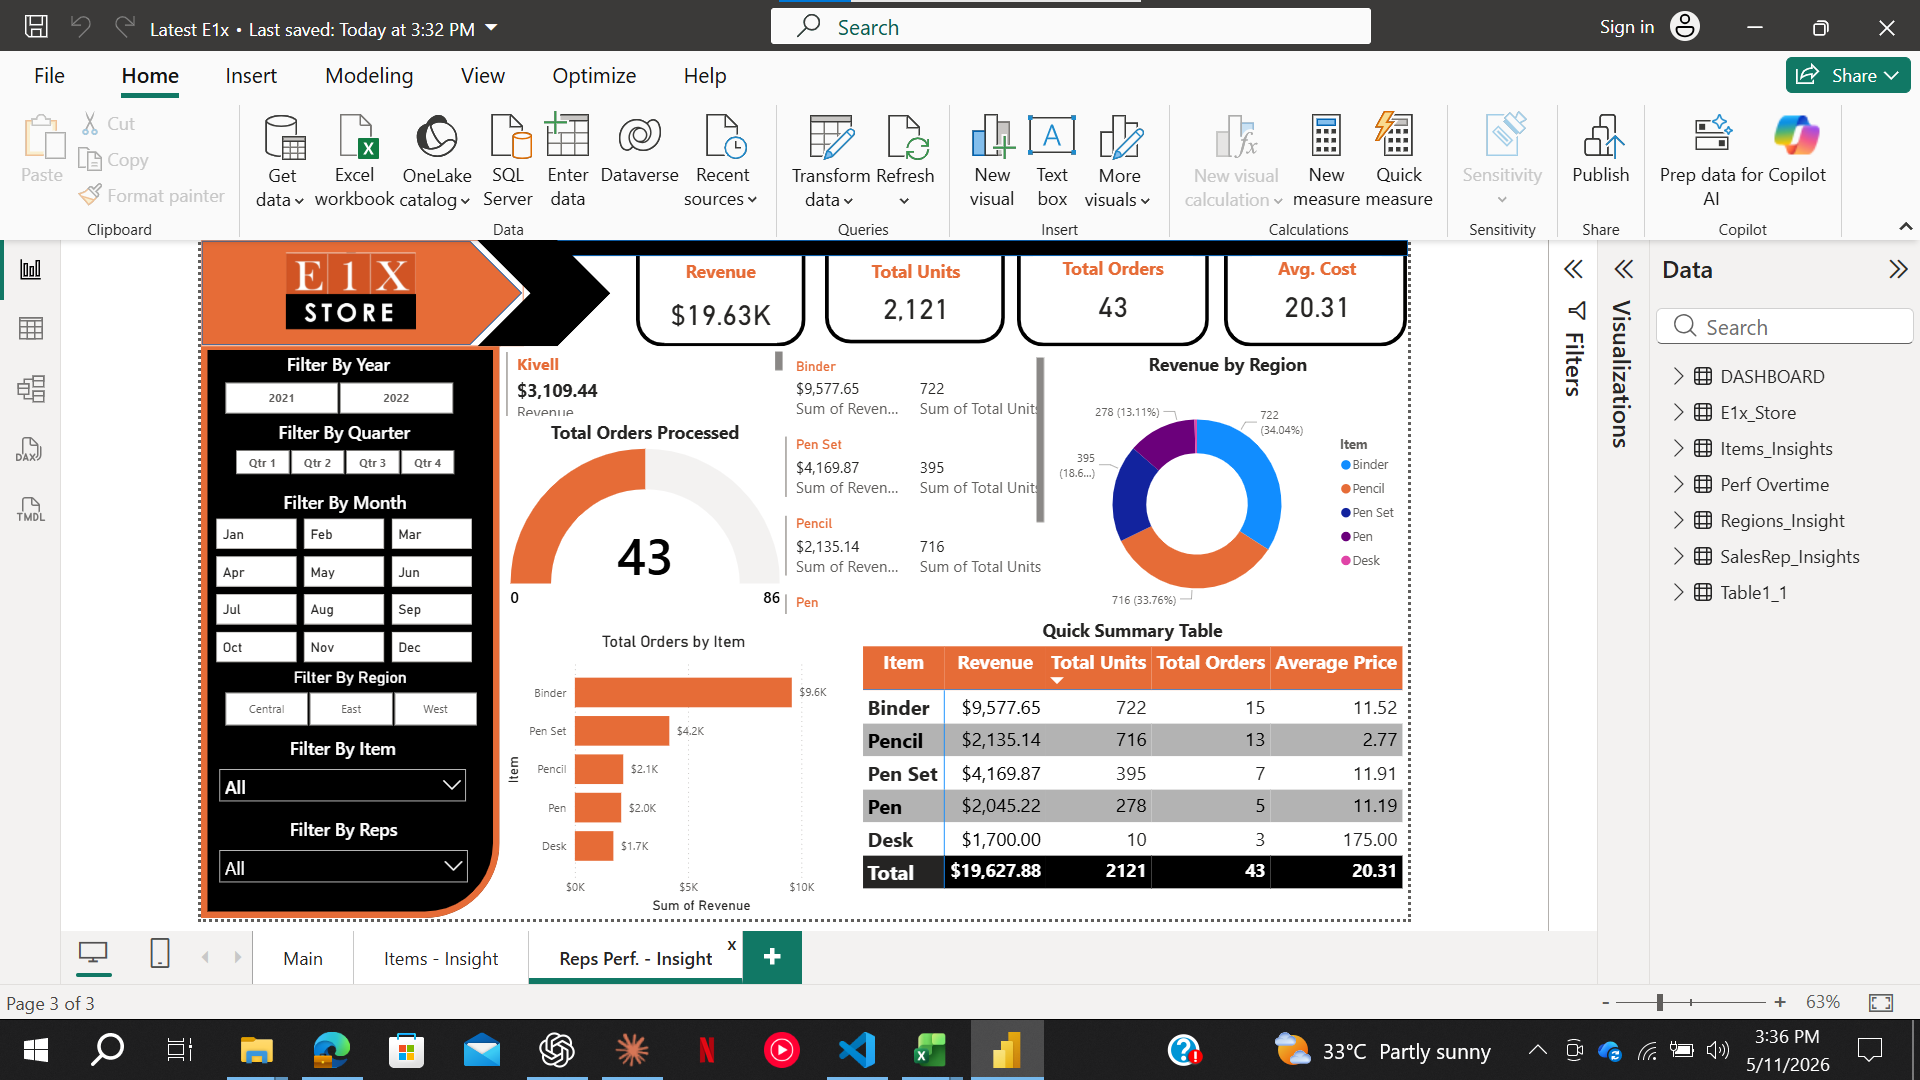

What the dashboard file says about the page in this screenshot:
{"tool":"powerbi","page":{"name":"Reps Perf. - Insight","canvas":[1280,720],"ordinal":2},"visuals":[{"type":"shape","box":[0,109.8,316.5,609.2],"z":0},{"type":"shape","box":[0,0,342,112.9],"z":1000},{"type":"image","box":[0,8,318.1,105],"z":2000},{"type":"shape","box":[461.3,0,179.7,112.9],"z":3000},{"type":"shape","box":[661.7,0,190.9,109.8],"z":4000},{"type":"shape","box":[865.3,0,203.6,112.9],"z":5000},{"type":"shape","box":[1084.8,0,194.1,112.9],"z":6000},{"type":"shape","box":[338.3,0,941.1,17],"z":7000},{"type":"shape","box":[292.7,0,141.6,112.9],"z":8000},{"type":"card","title":"Revenue","fields":{"Values":["Sum(E1x_Store.Total)"]},"box":[491.3,20.8,119.1,88.8],"z":9000},{"type":"card","title":"Total Units","fields":{"Values":["Sum(Table1_1.Units)"]},"box":[684,20.7,147.9,74.8],"z":10000},{"type":"card","title":"Total Orders","fields":{"Values":["CountNonNull(Table1_1.OrderDate)"]},"box":[882.8,17.5,168.6,77.9],"z":11000},{"type":"card","title":"Avg. Cost","fields":{"Values":["Avg(Table1_1.Unit Cost)"]},"box":[1115,17.5,136.8,77.9],"z":12000},{"type":"donutChart","title":"Revenue by Region","fields":{"Y":["Sum(Table1_1.Units)"],"Category":["Table1_1.Item"]},"box":[898.7,119.3,380.2,295.9],"z":13000},{"type":"pivotTable","title":"Quick Summary Table","fields":{"Values":["Sum(Table1_1.Revenue)","Sum(Table1_1.Units)","CountNonNull(Table1_1.OrderDate)","Avg(Table1_1.Unit Cost)"],"Rows":["Table1_1.Item"]},"box":[696.7,400.8,582.2,316.5],"z":14000},{"type":"clusteredBarChart","title":"Total Orders by Item","fields":{"Category":["Table1_1.Item"],"Y":["Sum(Table1_1.Revenue)"]},"box":[318.1,415.1,365.8,302.2],"z":15000},{"type":"multiRowCard","fields":{"Values":["Sum(Table1_1.Total)","Sum(Table1_1.Units)","Table1_1.Item"]},"box":[614,119.3,284.7,281.5],"z":16000},{"type":"multiRowCard","title":"Revenue and Total Units by Item","fields":{"Values":["Sum(Table1_1.Revenue)","Table1_1.Rep"]},"box":[318.1,112.9,303.8,77.9],"z":17000},{"type":"advancedSlicerVisual","title":"Filter By Month","fields":{"Values":["Table1_1.Month_Name"]},"box":[11.1,265.6,283.1,187.7],"z":18000},{"type":"slicer","title":"Filter By Reps","fields":{"Values":["Table1_1.Rep"]},"box":[9.5,612.4,283.1,74.8],"z":19000},{"type":"slicer","title":"Filter By Quarter","fields":{"Values":["Table1_1.OrderDate.Variation.Date Hierarchy.Quarter"]},"box":[11.1,190.9,281.5,63.6],"z":20000},{"type":"slicer","title":"Filter By Year","fields":{"Values":["Table1_1.OrderDate.Variation.Date Hierarchy.Year"]},"box":[0,119.3,291.1,71.6],"z":21000},{"type":"slicer","title":"Filter By Item","fields":{"Values":["Table1_1.Item"]},"box":[9.5,526.5,281.5,85.9],"z":22000},{"type":"slicer","title":"Filter By Region","fields":{"Values":["Table1_1.Region"]},"box":[0,453.3,316.5,68.4],"z":23000},{"type":"gauge","title":"Total Orders Processed","fields":{"Y":["CountNonNull(Table1_1.Total Units)"]},"box":[322.9,190.9,295.9,210],"z":24000}]}

Visuals, with their boxes on the page's 1280x720 design canvas (x1, y1, x2, y2). These are canvas units, not pixel positions in the 1920x1080 screenshot, which may show the page scaled, cropped or inside an application window:
shape: bbox(0, 110, 316, 719)
shape: bbox(0, 0, 342, 113)
image: bbox(0, 8, 318, 113)
shape: bbox(461, 0, 641, 113)
shape: bbox(662, 0, 853, 110)
shape: bbox(865, 0, 1069, 113)
shape: bbox(1085, 0, 1279, 113)
shape: bbox(338, 0, 1279, 17)
shape: bbox(293, 0, 434, 113)
"Revenue" card: bbox(491, 21, 610, 110)
"Total Units" card: bbox(684, 21, 832, 96)
"Total Orders" card: bbox(883, 18, 1051, 95)
"Avg. Cost" card: bbox(1115, 18, 1252, 95)
"Revenue by Region" donutChart: bbox(899, 119, 1279, 415)
"Quick Summary Table" pivotTable: bbox(697, 401, 1279, 717)
"Total Orders by Item" clusteredBarChart: bbox(318, 415, 684, 717)
multiRowCard - Sum(Table1_1.Total) x Sum(Table1_1.Units): bbox(614, 119, 899, 401)
"Revenue and Total Units by Item" multiRowCard: bbox(318, 113, 622, 191)
"Filter By Month" advancedSlicerVisual: bbox(11, 266, 294, 453)
"Filter By Reps" slicer: bbox(10, 612, 293, 687)
"Filter By Quarter" slicer: bbox(11, 191, 293, 254)
"Filter By Year" slicer: bbox(0, 119, 291, 191)
"Filter By Item" slicer: bbox(10, 526, 291, 612)
"Filter By Region" slicer: bbox(0, 453, 316, 522)
"Total Orders Processed" gauge: bbox(323, 191, 619, 401)
